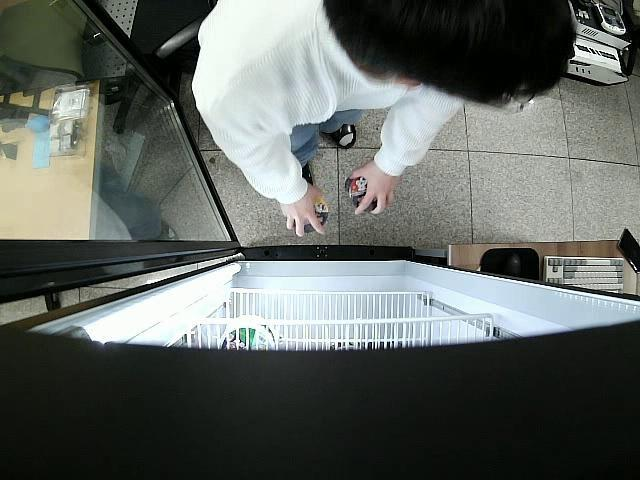08_buldak_S: (344, 170, 378, 213), (293, 196, 328, 235)
